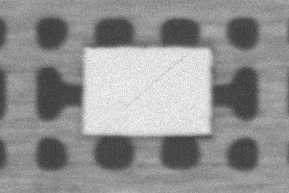DIE_CRACK: (187, 35, 282, 71)
